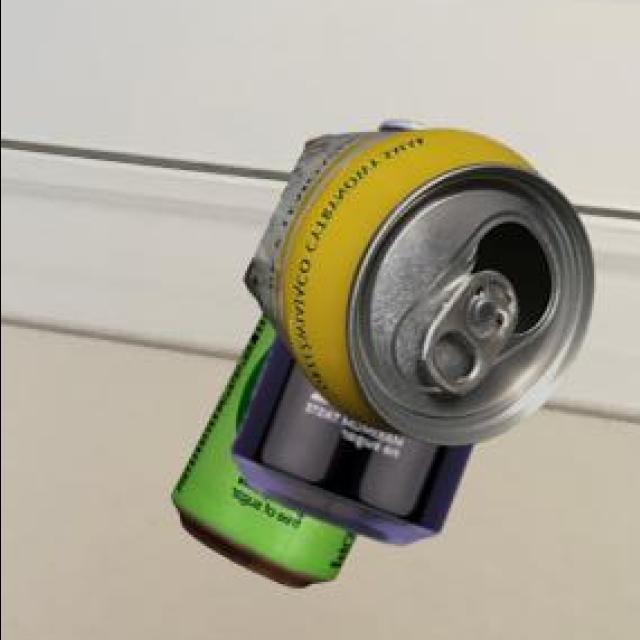logam: (247, 133, 596, 449), (234, 124, 476, 547), (176, 317, 359, 590)
